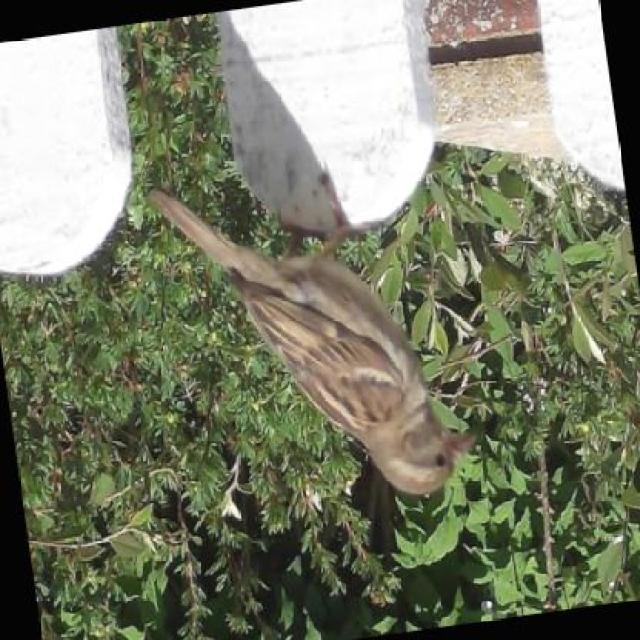sparrow: (140, 142, 491, 533)
